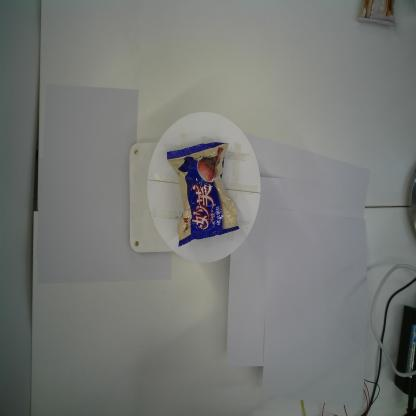Dessert: (166, 142, 240, 248)
